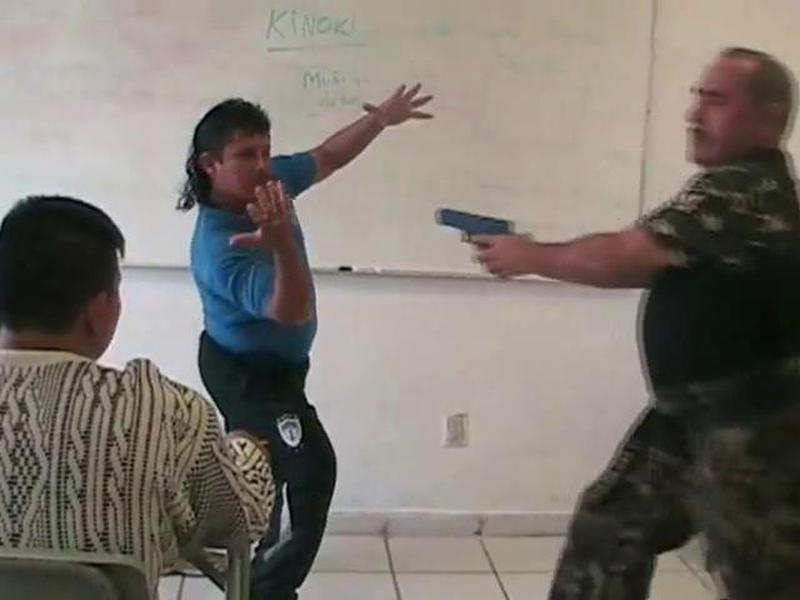Pistola: (434, 197, 523, 292)
